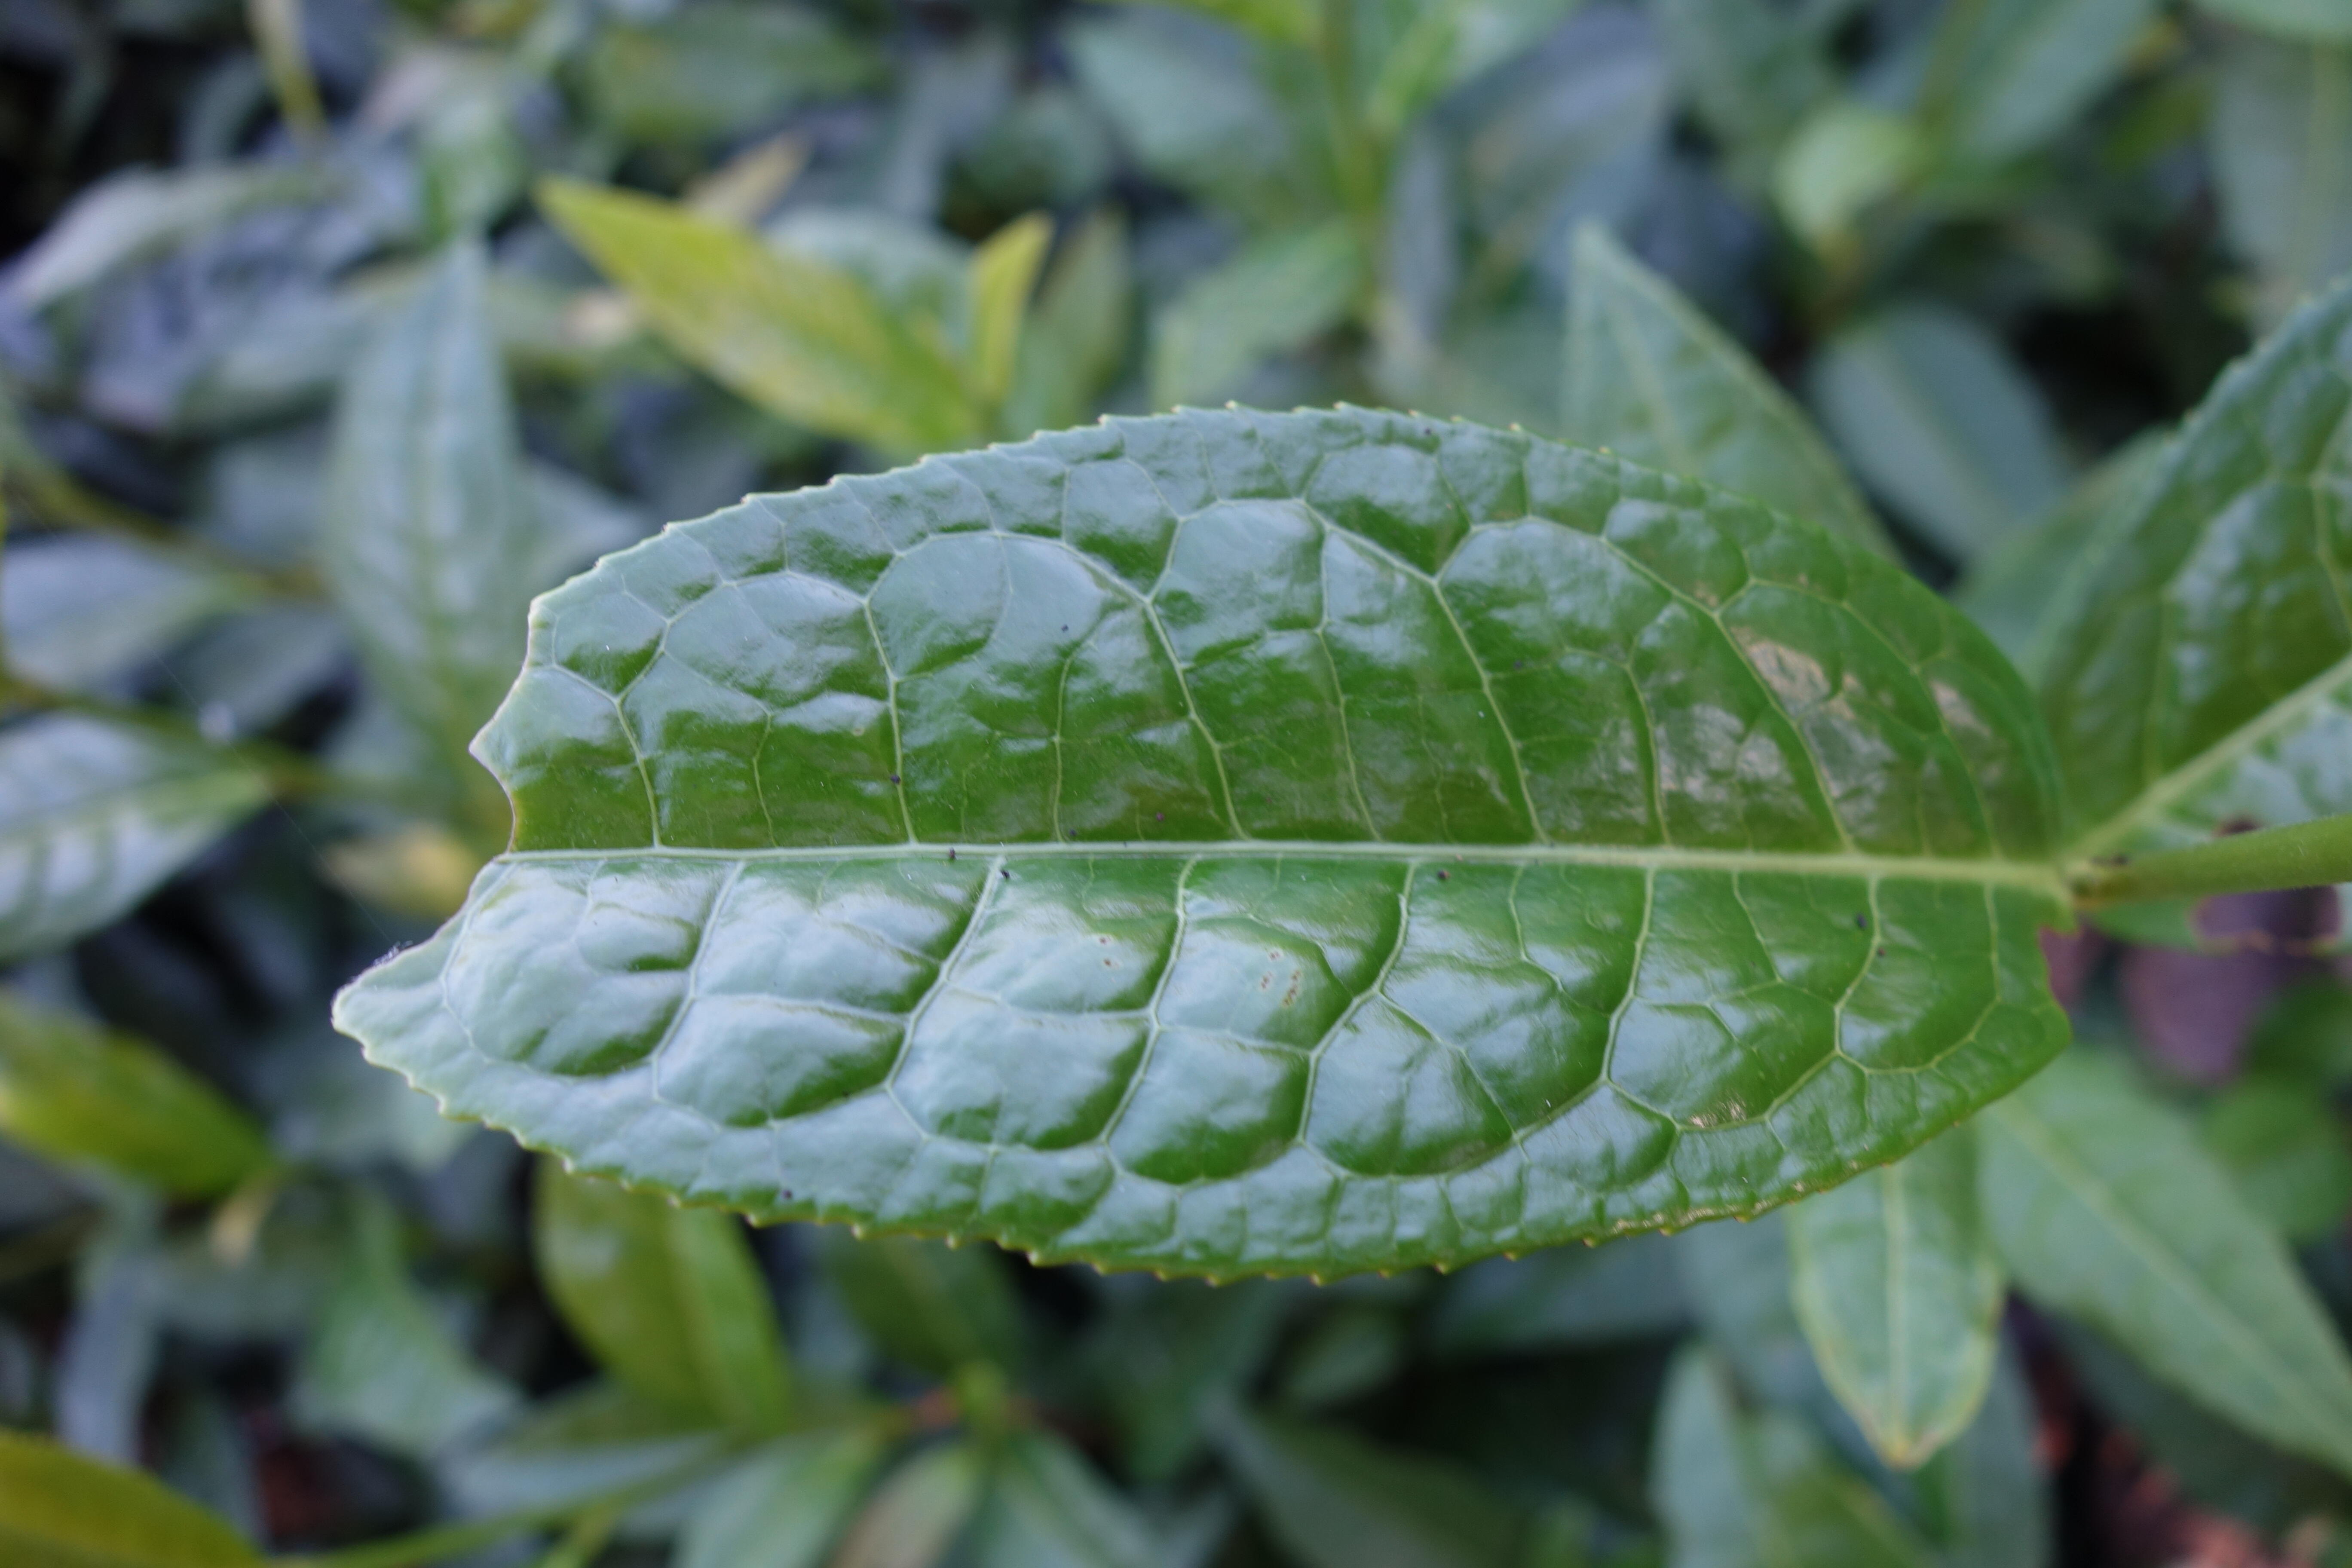chihuo_low: (332, 401, 2079, 1297)
